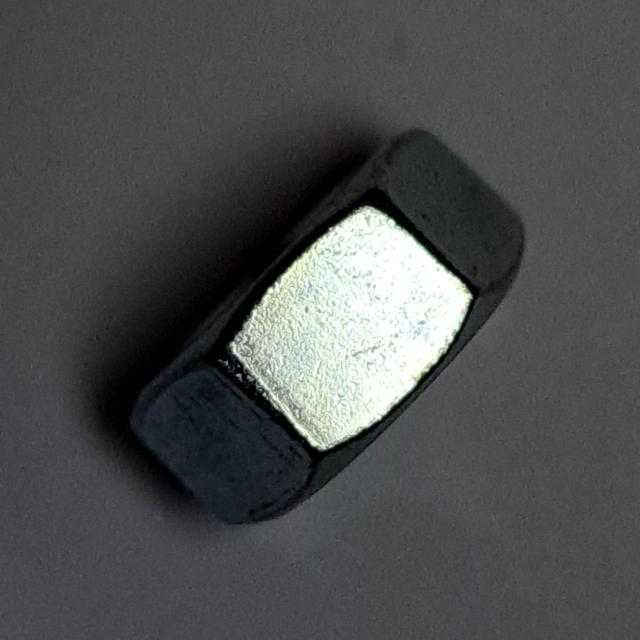Side_Excellent: (115, 117, 539, 542)
